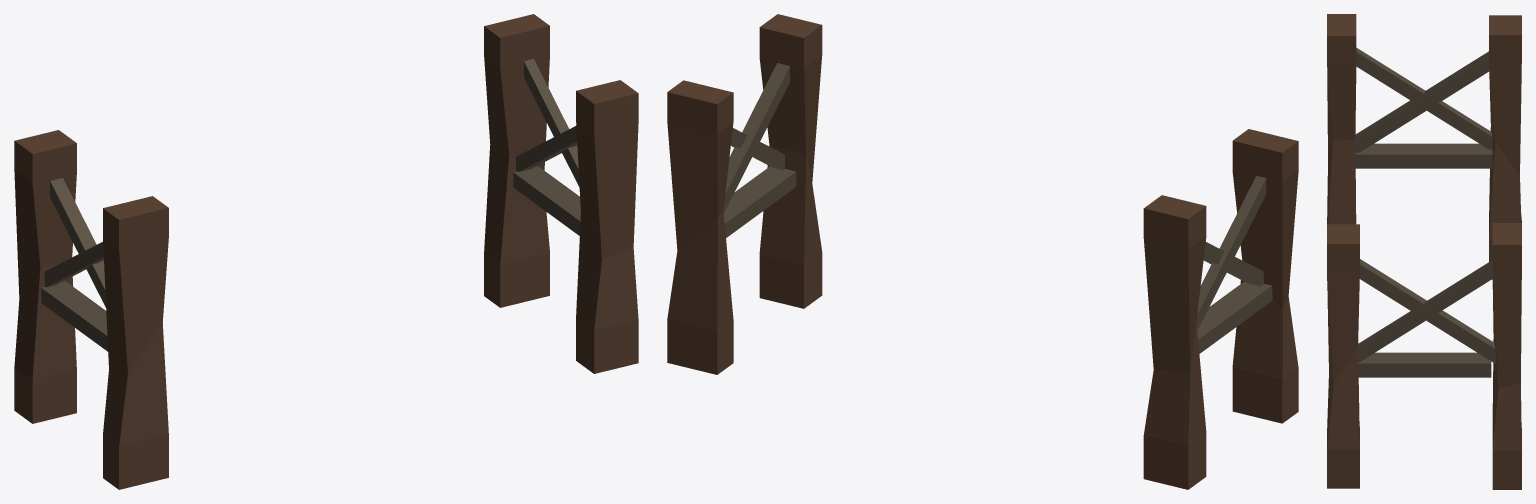
The model's file is SM_Prop_Liferaft_Stand_01.glb.
The picture shows the model from 3 angles, left to right: view 1: azimuth 30°, elevation 25°; view 2: azimuth 150°, elevation 25°; view 3: azimuth 270°, elevation 25°; orthographic projection. The views are drawn at different scales.
Visible parts, largest first — view 1: node_id4; view 2: node_id4; view 3: node_id4.
Boxes of the visible parts, <box> form: node_id4: <box>14,14,638,489</box>; node_id4: <box>667,14,1298,489</box>; node_id4: <box>1327,14,1521,489</box>.
Size of the model in its own units: 0.512 by 0.253 by 0.1823.
Materials: 1 (1 with a texture image).
